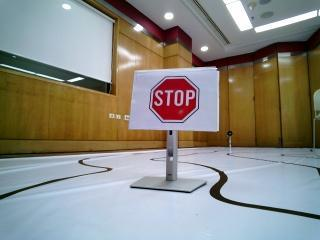stop: (139, 75, 219, 132)
